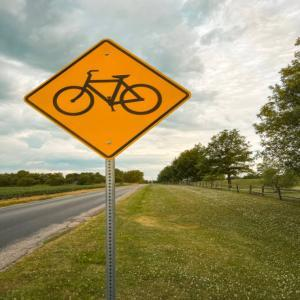CYCLE CROSSING: (23, 38, 197, 160)
